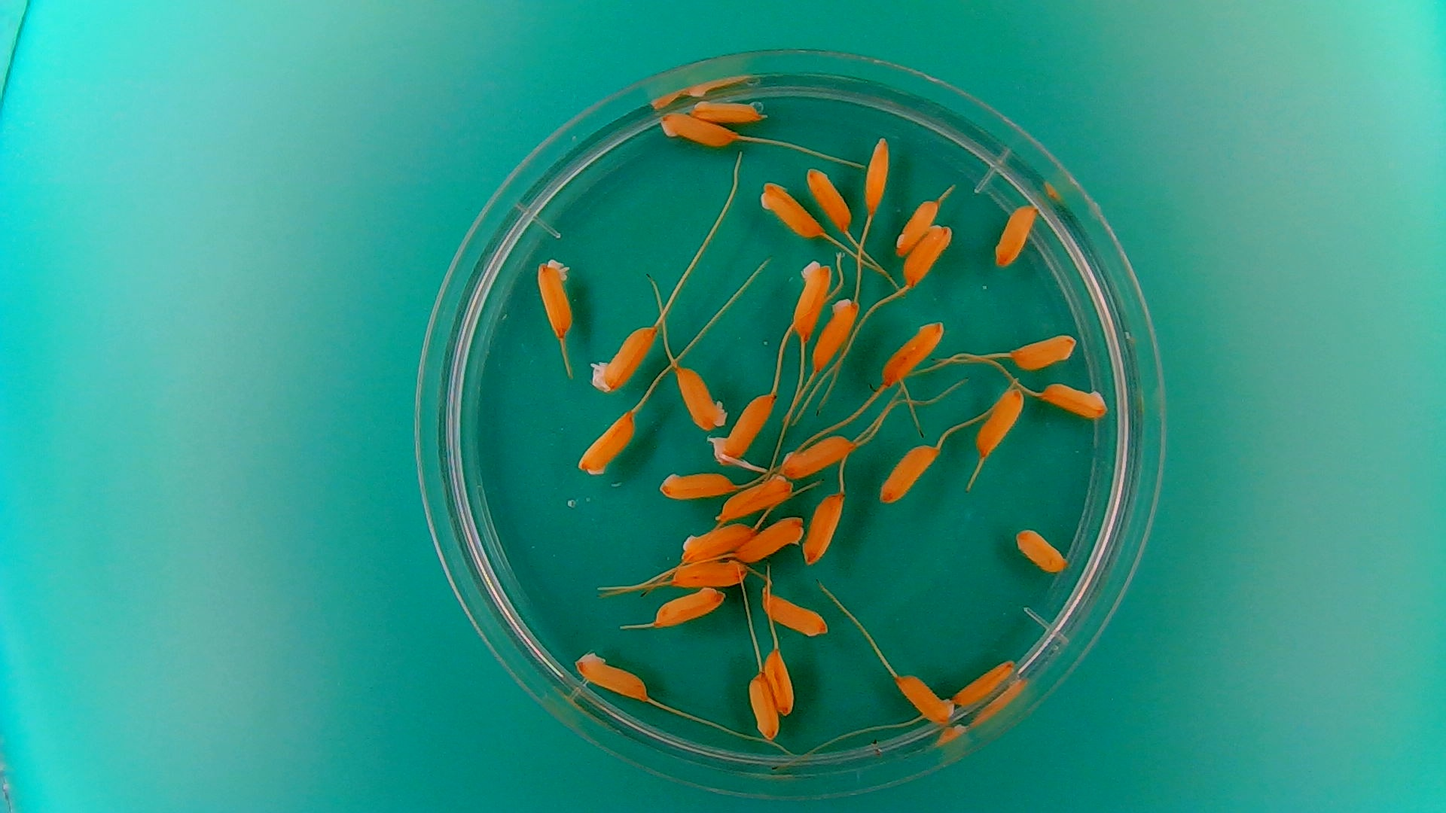no: (879, 318, 947, 390), (757, 178, 826, 239), (572, 649, 651, 702), (575, 410, 637, 477), (877, 441, 941, 504), (716, 471, 795, 522), (811, 295, 861, 373), (734, 512, 806, 565), (892, 670, 956, 729), (950, 656, 1018, 711), (974, 385, 1025, 458), (760, 589, 830, 641), (790, 258, 834, 340), (676, 520, 756, 565), (675, 365, 728, 432), (649, 584, 727, 629), (803, 163, 853, 233), (901, 222, 954, 288), (654, 108, 738, 149), (535, 256, 576, 340), (782, 432, 853, 479), (1036, 377, 1110, 422), (992, 202, 1039, 269), (802, 492, 845, 565), (1008, 330, 1079, 372), (1012, 525, 1069, 576), (894, 196, 940, 255), (746, 670, 781, 744), (651, 470, 737, 500), (670, 558, 749, 590), (861, 135, 892, 216), (763, 647, 798, 718), (688, 96, 767, 124)
yes: (709, 391, 777, 477), (587, 322, 657, 395)
